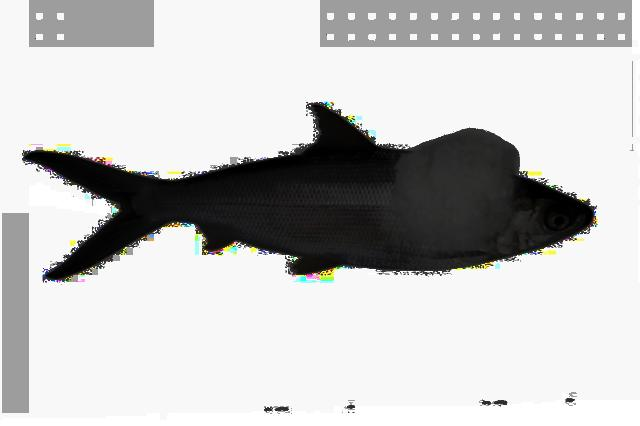Fungal Disease -Saprolegniasis-: (28, 105, 592, 278)
